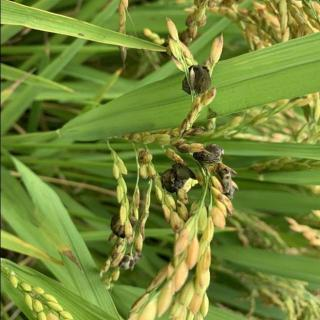Gosong-Palsu: (159, 163, 195, 195), (181, 64, 212, 98), (108, 212, 140, 240), (194, 142, 225, 166), (217, 166, 237, 202), (116, 250, 142, 272)
